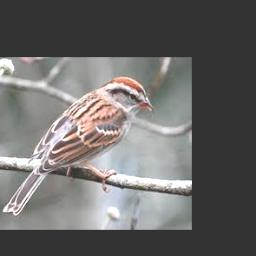Sparrow: (3, 76, 154, 216)
